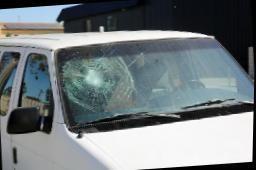Windshield: (55, 36, 254, 127)
